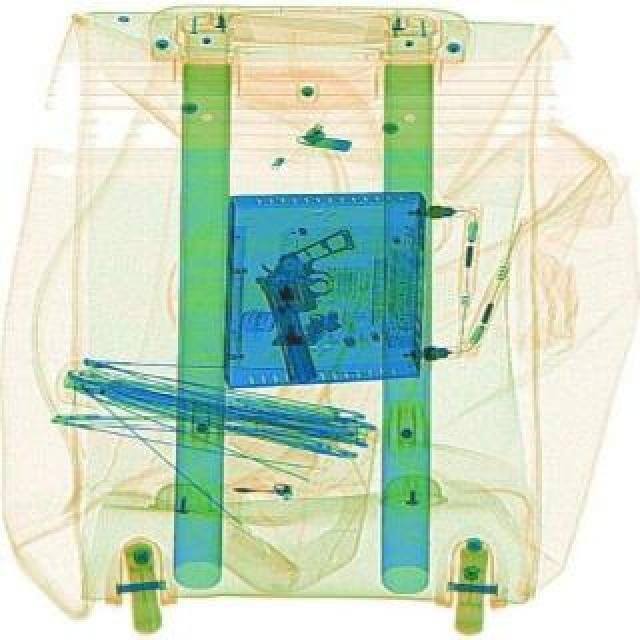gun: (246, 228, 386, 388)
